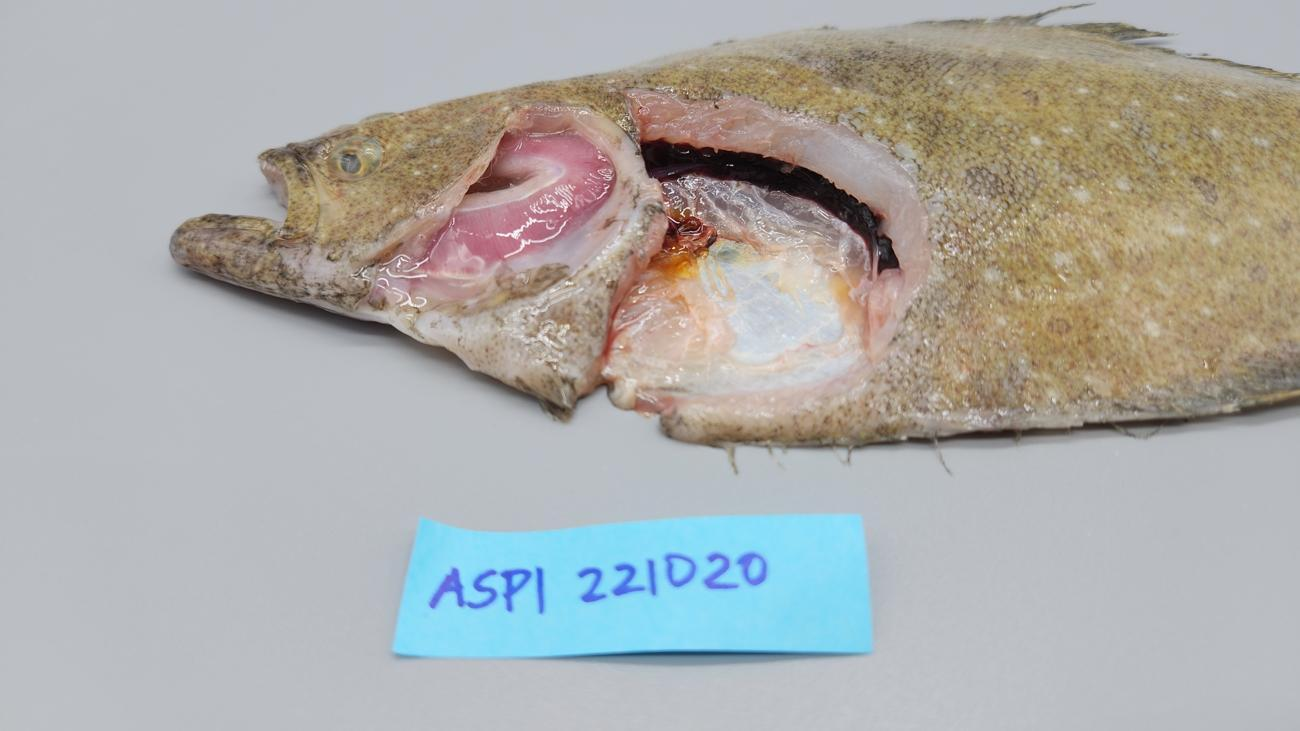SPASQ: (605, 174, 869, 391)
